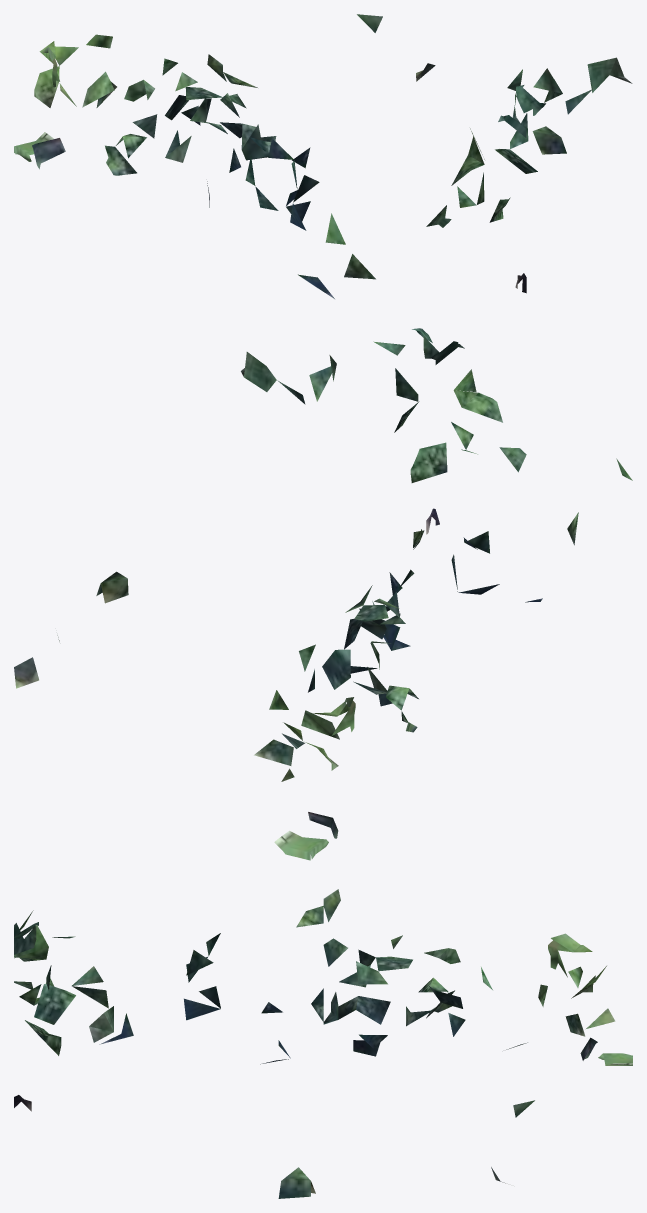
3 renders of one model, top to bottom at view 1: azimuth 30°, elevation 25°; view 2: azimuth 150°, elevation 25°; view 3: azimuth 270°, elevation 25°, orthographic. The views are drawn at different scales.
Visible parts, largest first — view 1: 30436272704361534511_1; view 2: 30436272704361534511_1; view 3: 30436272704361534511_1.
Boxes of the visible parts, x1,y1,x2,y2 form: 30436272704361534511_1: [14, 14, 632, 298]; 30436272704361534511_1: [14, 328, 632, 860]; 30436272704361534511_1: [14, 889, 632, 1198].
Size of the model in its own units: 25.93 by 16.03 by 38.26.
Materials: 1 (1 with a texture image).
